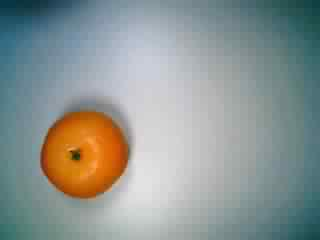orange: (36, 102, 131, 204)
